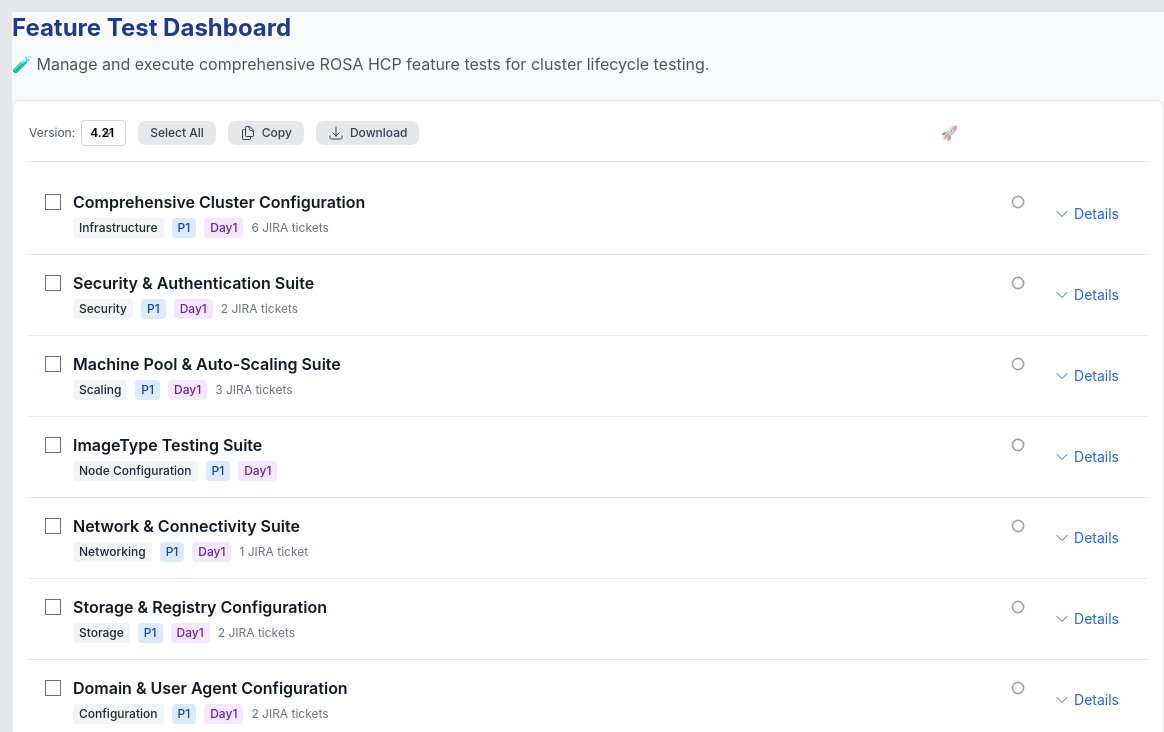
Test case: TestSuiteDashboard › expands and collapses test item details
The width and height of the screenshot is (1164, 732).
Click the button "Details" in the row of "Comprehensive Cluster Configuration".
click(1086, 214)  # box [1042, 196, 1131, 232]
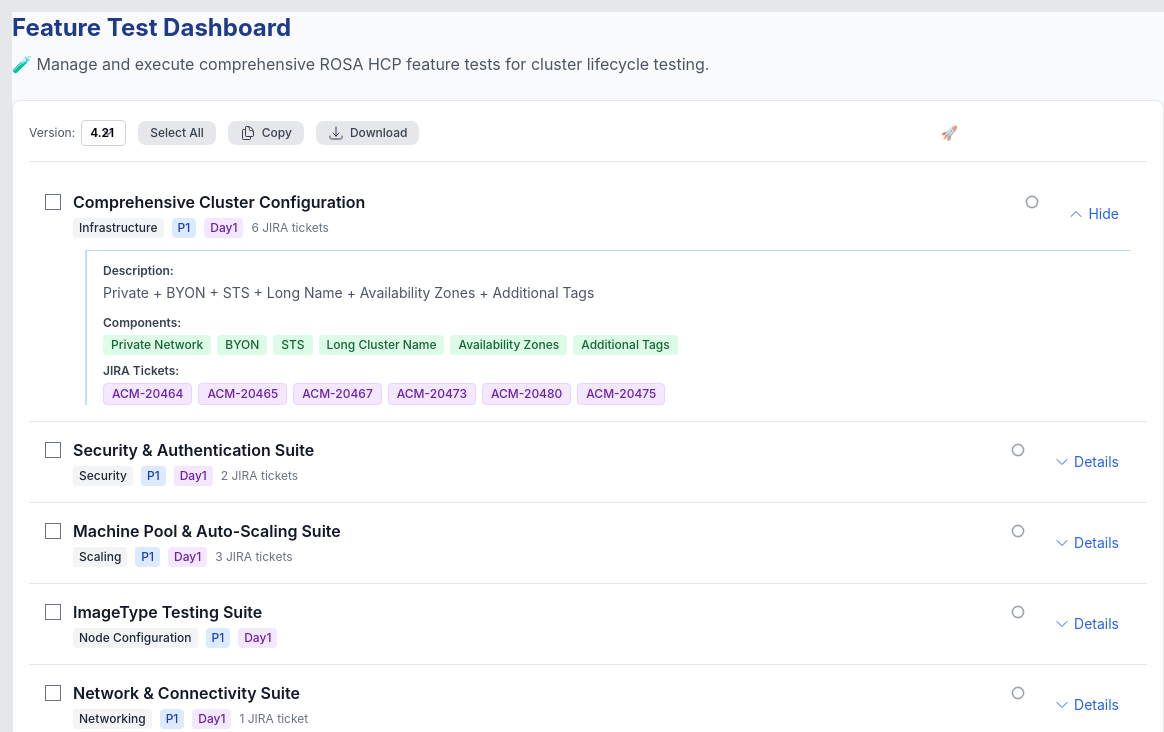
Check: the heading "Description:" is shown, box [103, 263, 174, 278]
Check: the heading "Components:" is shown, box [103, 315, 181, 330]
Click the button "Hide".
click(1094, 214)  # box [1056, 196, 1131, 232]
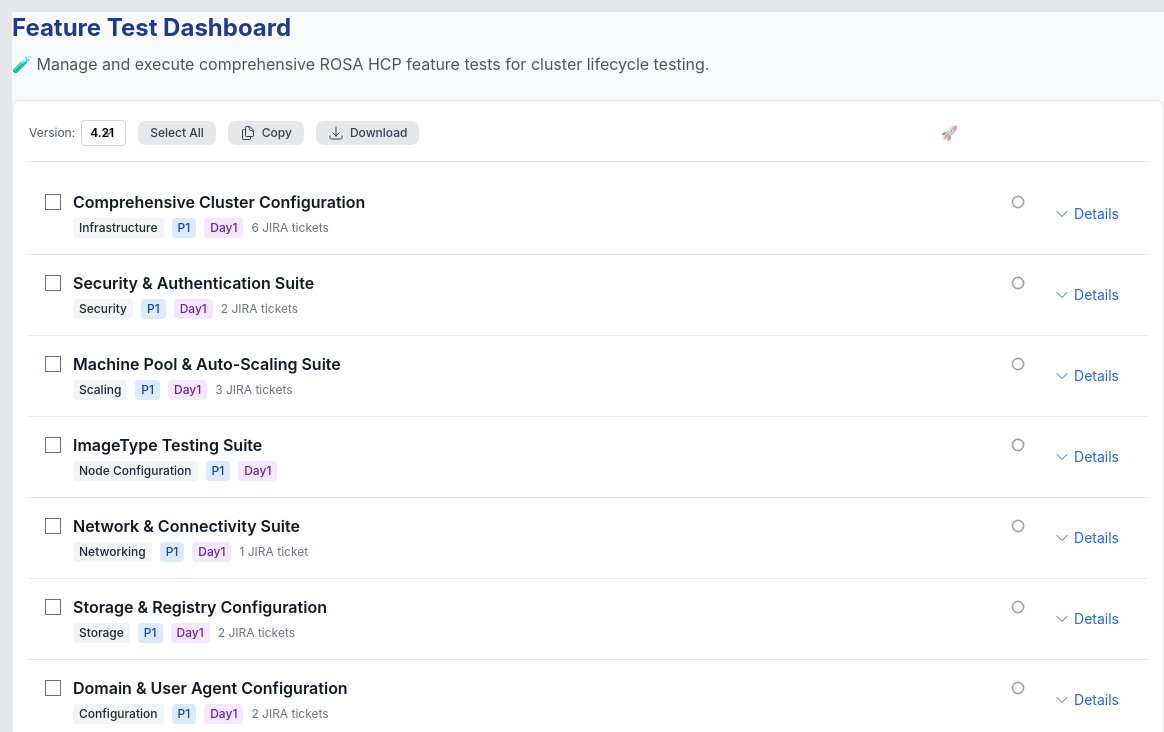
Check: the heading "Description:" is gone
